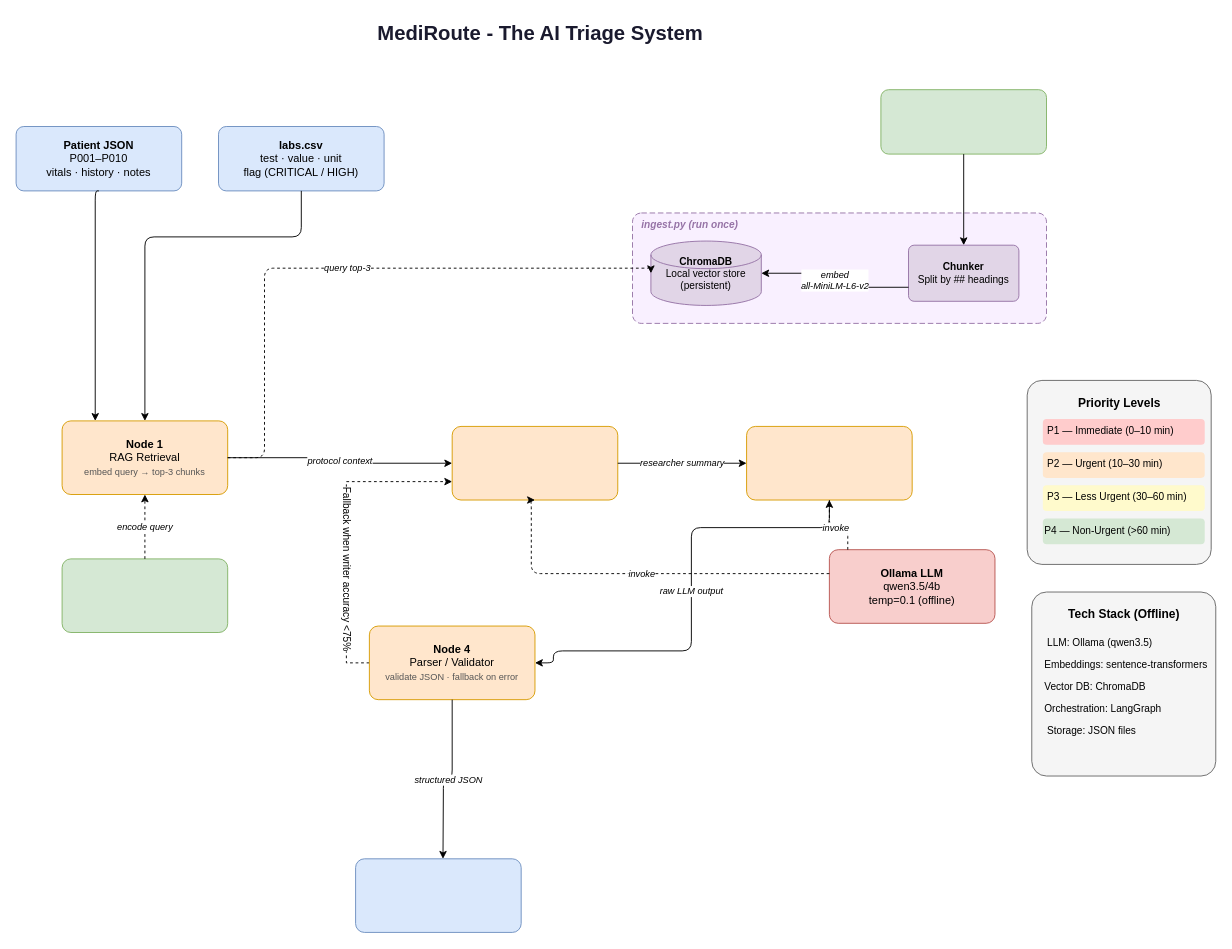
This 1232x949 diagram has some shape labels left out. Each missing label, with the centre of its shape:
"Node 2 Researcher Worker consolidate vitals · labs · history" belongs at pixel 534 463.
"Node 3 Writer Worker assign P1–P4 · confidence · JSON" belongs at pixel 829 463.
"results.json priority · confidence key_signals · reasoning worker_trace" belongs at pixel 438 895.
"sentence-transformers all-MiniLM-L6-v2 384-dim vectors" belongs at pixel 144 595.
"triage_protocol.md P1/P2/P3/P4 rules Sepsis · FAST · AVPU" belongs at pixel 963 121.
